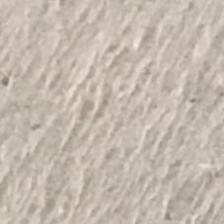Non_Crack: (5, 17, 216, 191)
